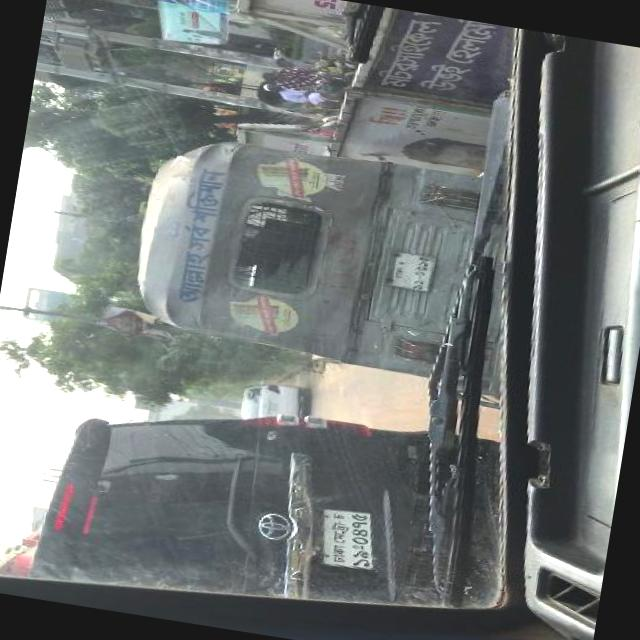car: (238, 380, 300, 424)
motorcycle: (134, 128, 523, 388), (253, 42, 360, 124)
truck: (33, 375, 498, 640)
